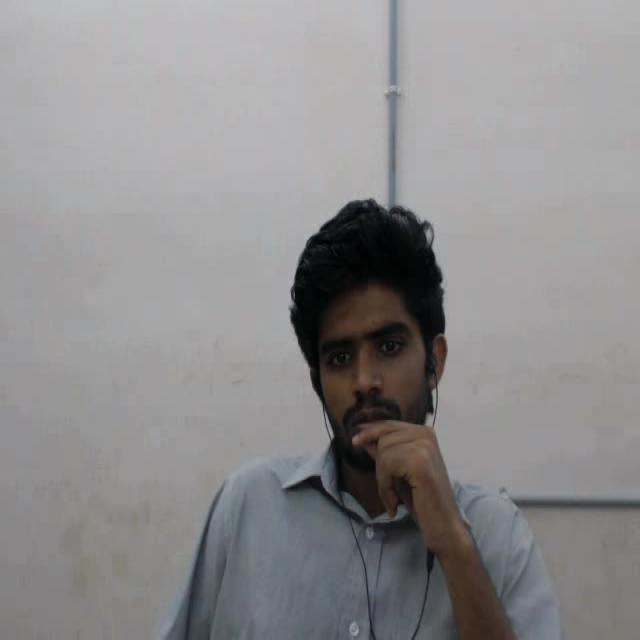Bored: (268, 176, 480, 518)
